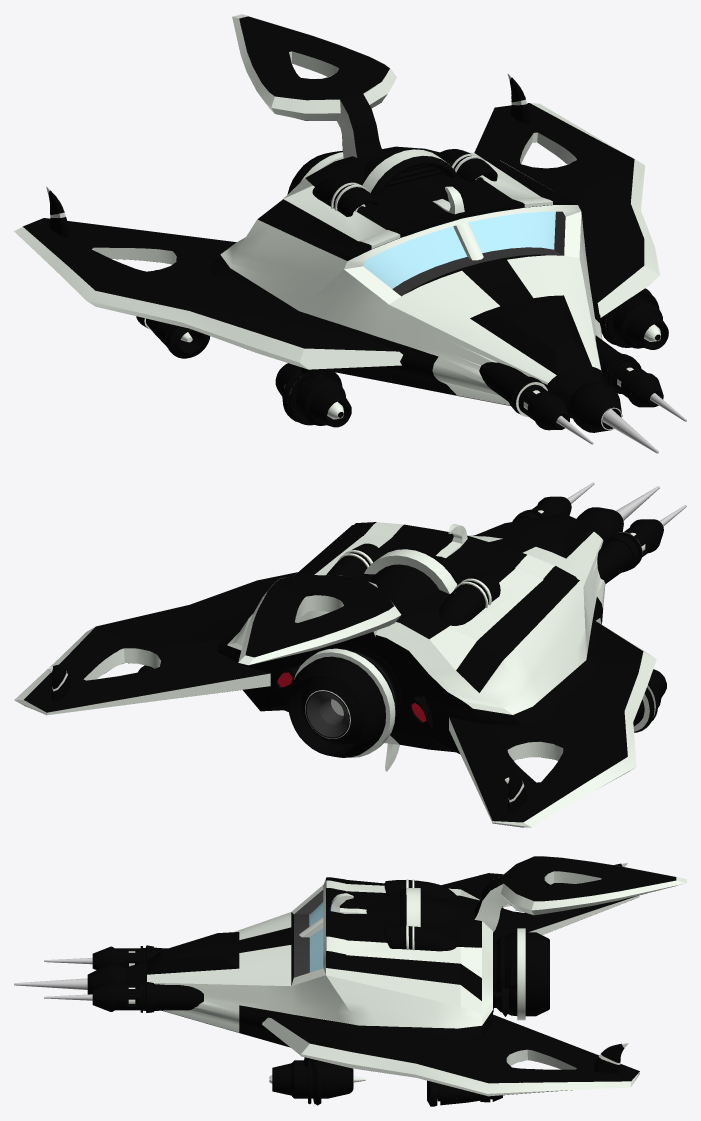
The model's file is Spaceship.glb.
3 views of the same model, one above another, from view 1: azimuth 30°, elevation 25°; view 2: azimuth 150°, elevation 25°; view 3: azimuth 270°, elevation 25° (orthographic). The views are drawn at different scales.
Parts seen in each view (by area): view 1: Cube.003; view 2: Cube.003; view 3: Cube.003.
Boxes of the visible parts, x1,y1,x2,y2 form: Cube.003: (14, 14, 686, 453); Cube.003: (14, 482, 686, 827); Cube.003: (14, 856, 686, 1106).
Size of the model in its own units: 3.63 by 1.36 by 4.75.
